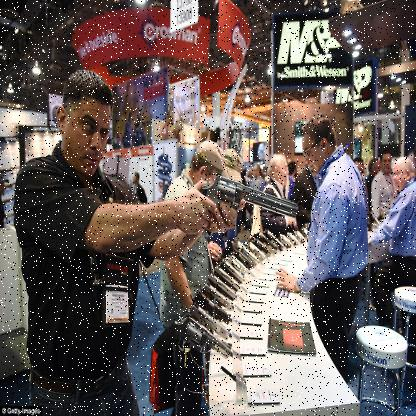pistol: (191, 172, 299, 225)
